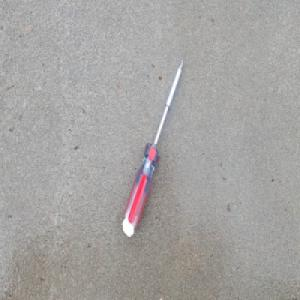Screwdriver: (120, 56, 185, 239)
